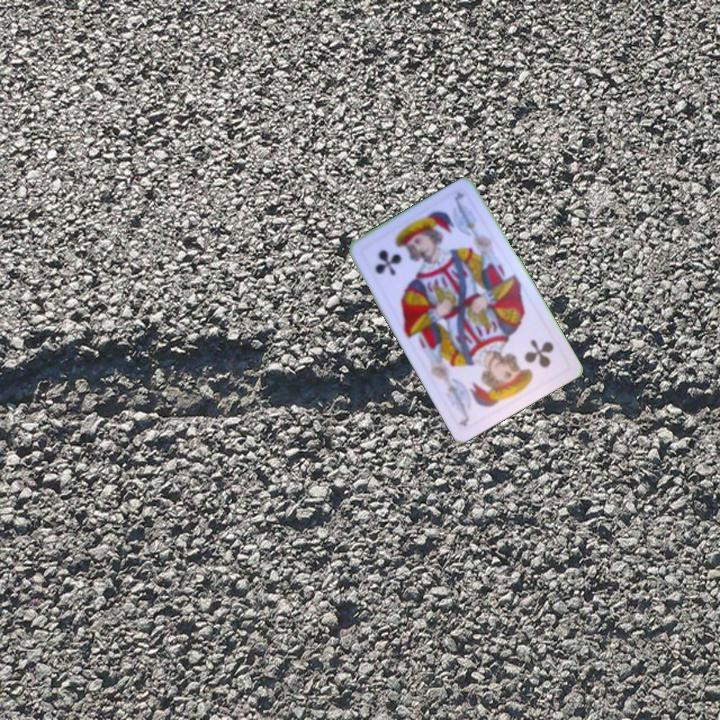c_j.png: (357, 217, 442, 299), (486, 319, 571, 401)
